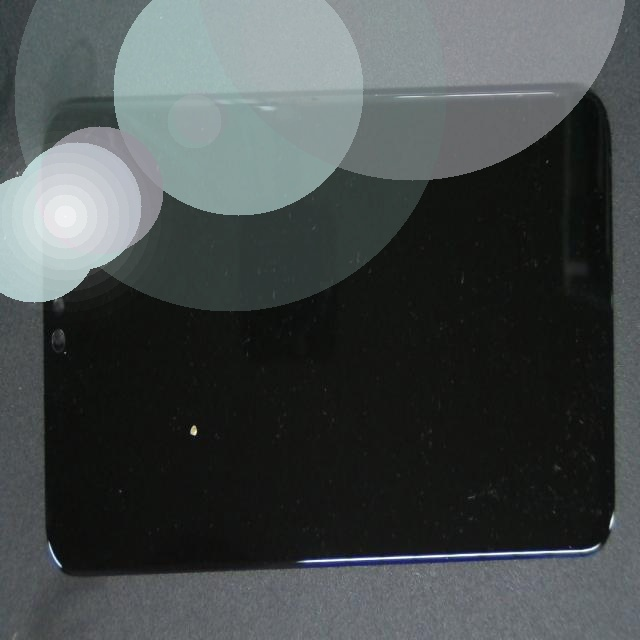stain: (84, 168, 267, 622)
